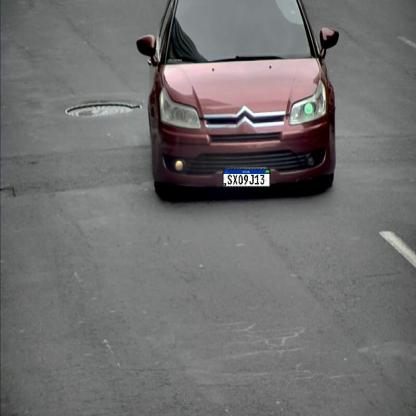PlacaM: (222, 169, 270, 187)
